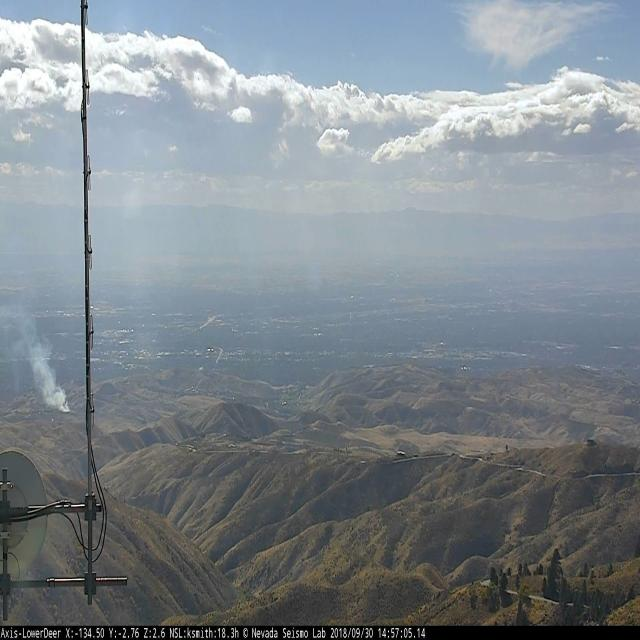smoke: (2, 303, 71, 413)
